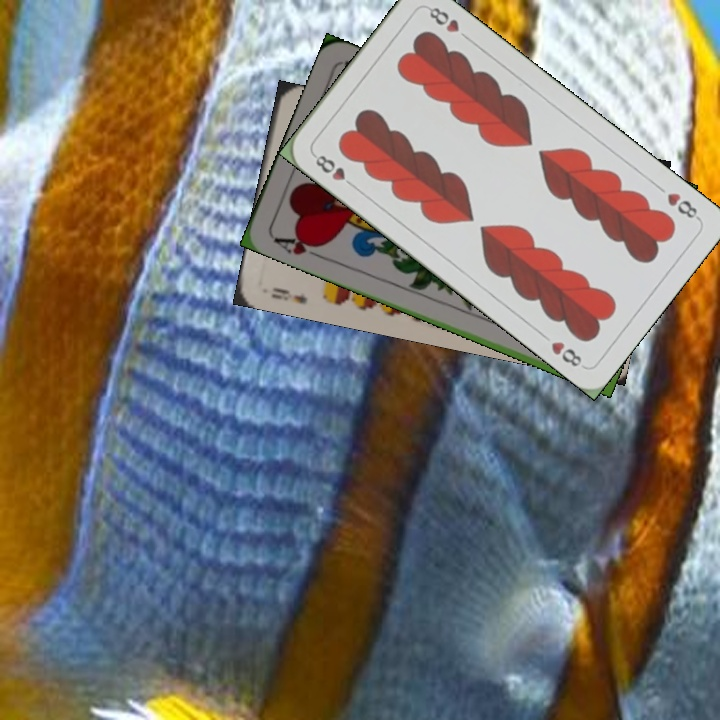E9: (267, 283, 310, 307)
H8: (309, 151, 359, 191), (662, 188, 703, 223)
HA: (269, 229, 326, 262)
